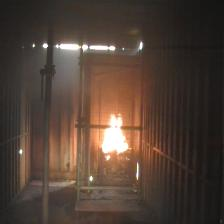fire: (102, 114, 130, 162)
